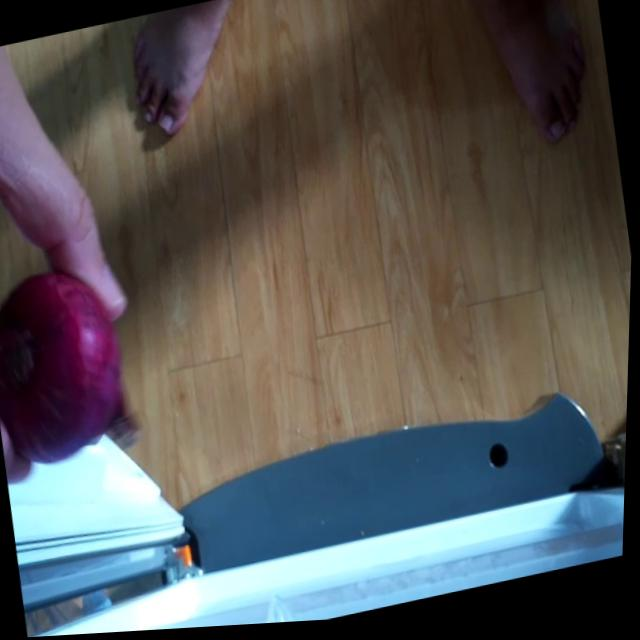onion: (0, 258, 151, 478)
